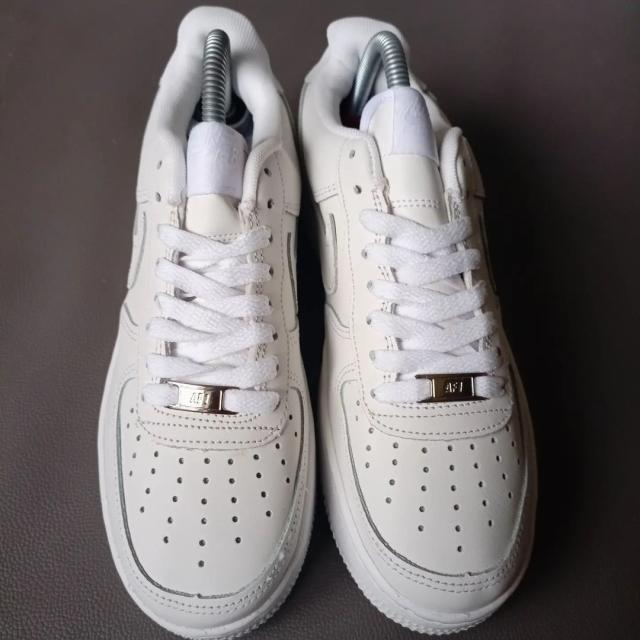nike fake air force: (298, 23, 542, 630), (88, 23, 314, 633)
